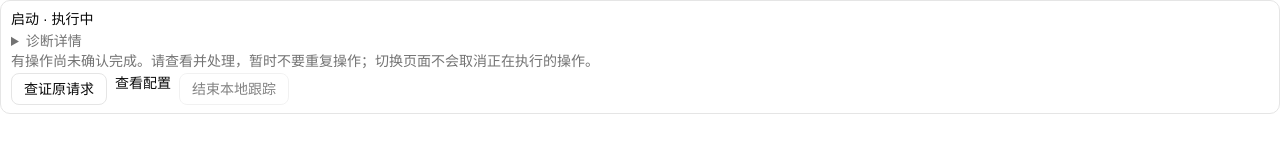
Test: pending identity verification and command receipts › does not acknowledge active commands or expose unsafe raw lookup failures
Expected: the button "结束本地跟踪" is disabled, [179,73,289,105]
What coordinates should you click on to do the following:
click the button "查证原请求"
I would click on:
 (59, 89)
Its box is [11,73,107,105].
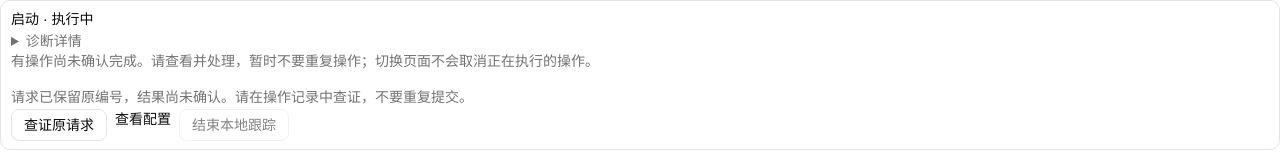
Now the text "结果尚未确认" is shown, box [11,89,473,105]
